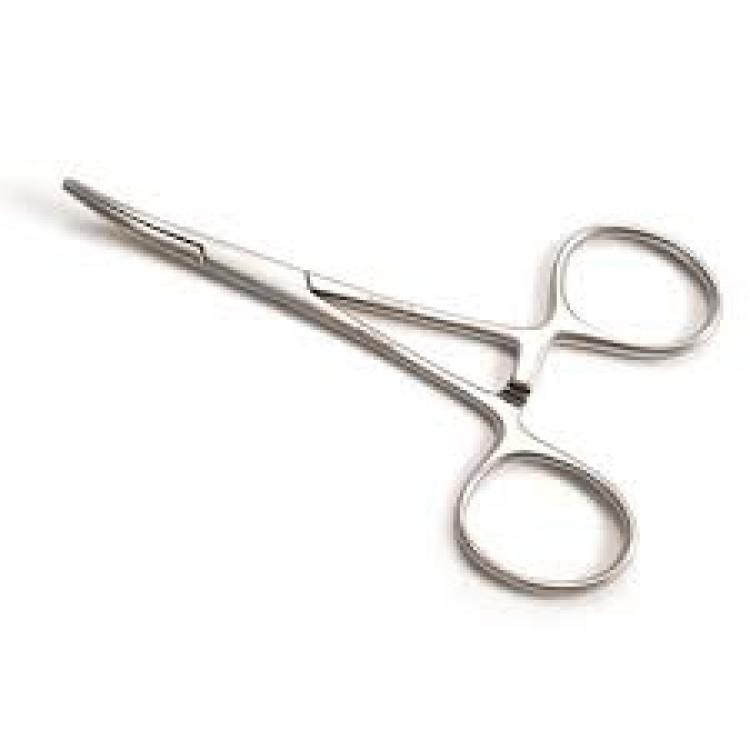Artery Forceps: (49, 138, 731, 632)
